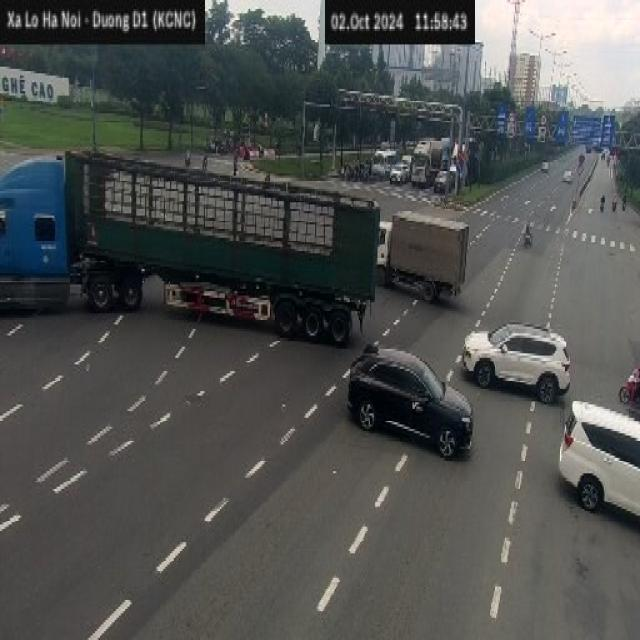car: (347, 340, 472, 460), (558, 398, 638, 518), (461, 320, 570, 404)
container-truck: (0, 146, 380, 346)
truck: (378, 203, 470, 310)
